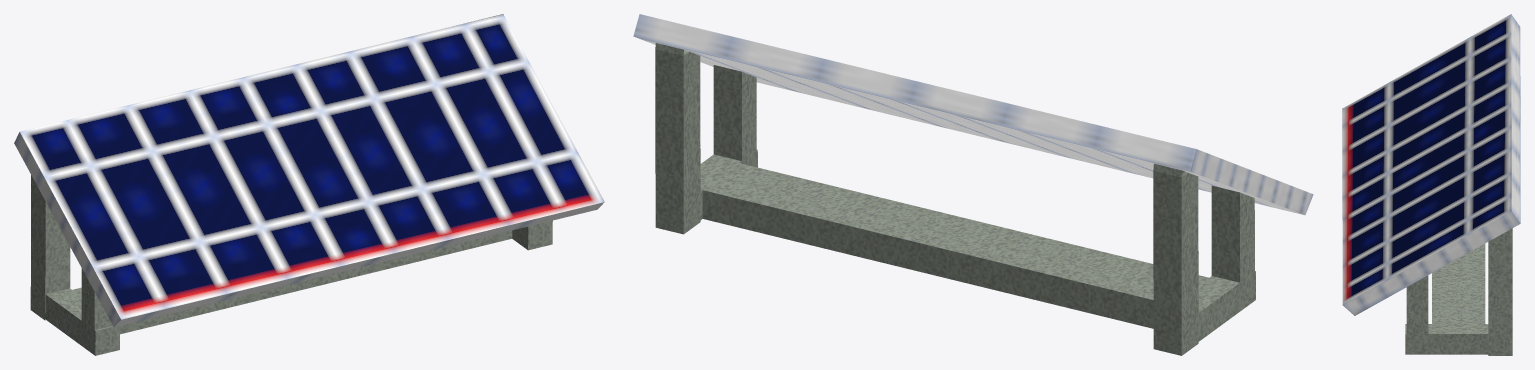
Rendered from BLOCKYGON_SOLAR PANE.fbx.
3 views of the same model, side by side, from view 1: azimuth 30°, elevation 25°; view 2: azimuth 150°, elevation 25°; view 3: azimuth 270°, elevation 25° (orthographic). The views are drawn at different scales.
Parts seen in each view (by area): view 1: BLOCKYGON_SOLAR_PANE; view 2: BLOCKYGON_SOLAR_PANE; view 3: BLOCKYGON_SOLAR_PANE.
Boxes of the visible parts, bbox=[...] form: BLOCKYGON_SOLAR_PANE: bbox=[14, 14, 604, 355]; BLOCKYGON_SOLAR_PANE: bbox=[633, 14, 1313, 355]; BLOCKYGON_SOLAR_PANE: bbox=[1342, 14, 1520, 355].
Bounding box in the file's own units: 393 × 141 × 151.
